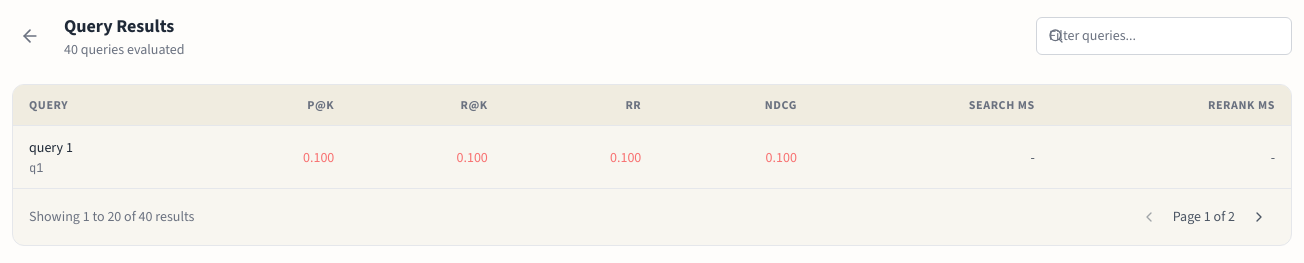
QueryResultsPanel › paginates results
Expected: the text "Page 1 of 2" is shown, [1173,207,1235,227]
Click the button named "next page": (1259,217) [1243,201,1275,233]
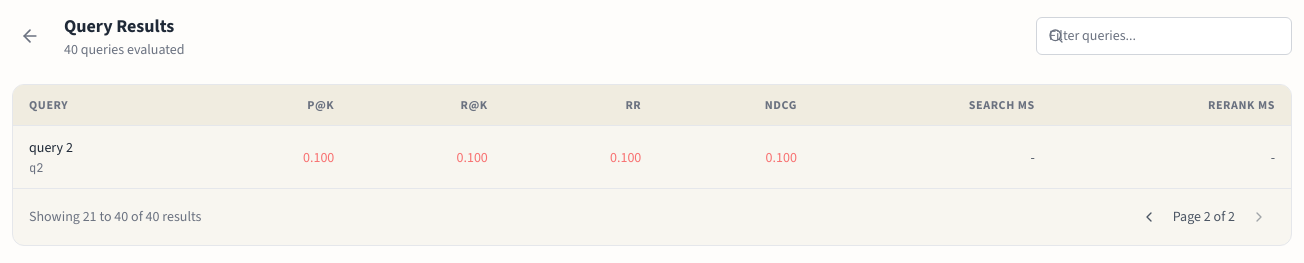
Expected: the text "Page 2 of 2" is shown, [1173,207,1235,227]
